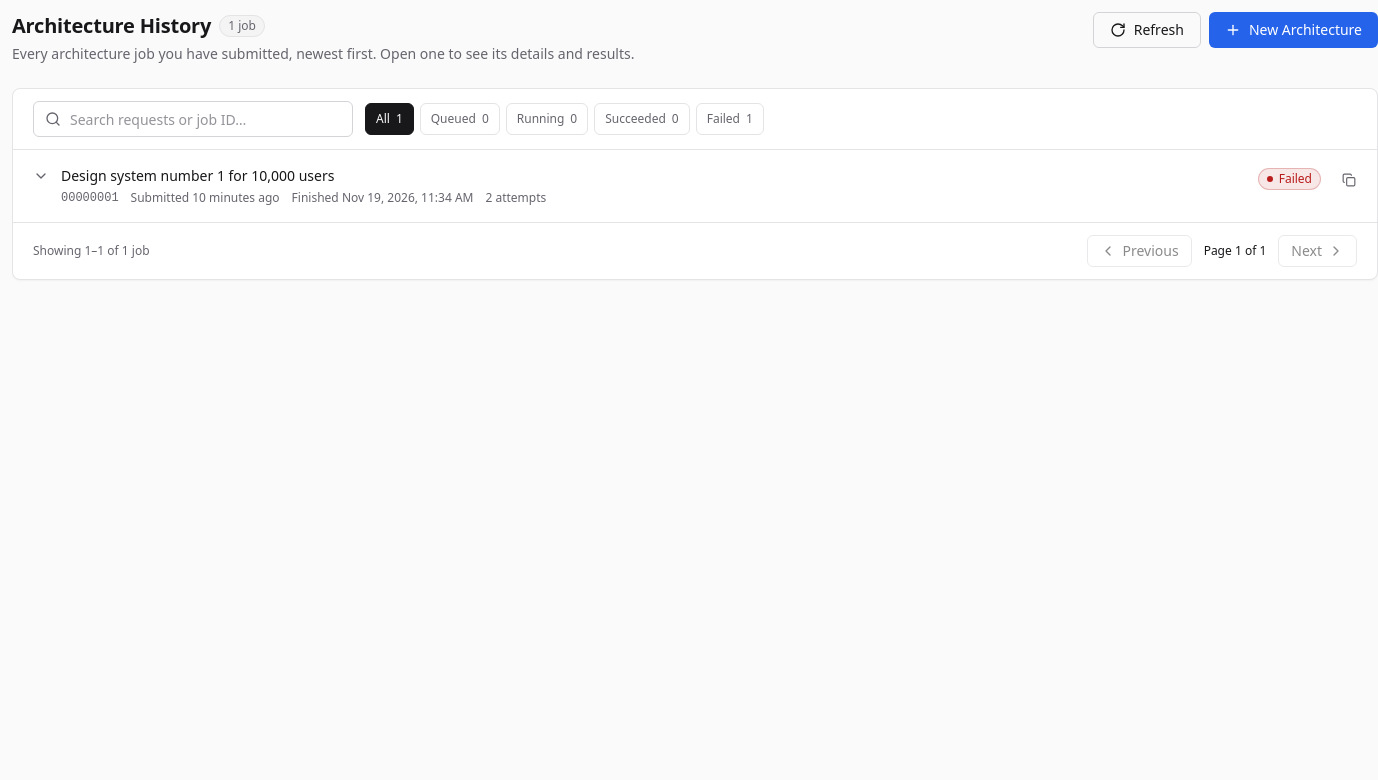
Test: Architecture History page › failed jobs show a readable failure message and no View Results
Click the button that starts with "Design system number 1 for 10,000 users": [198, 176] box x1=25 y1=158 x2=1329 y2=214
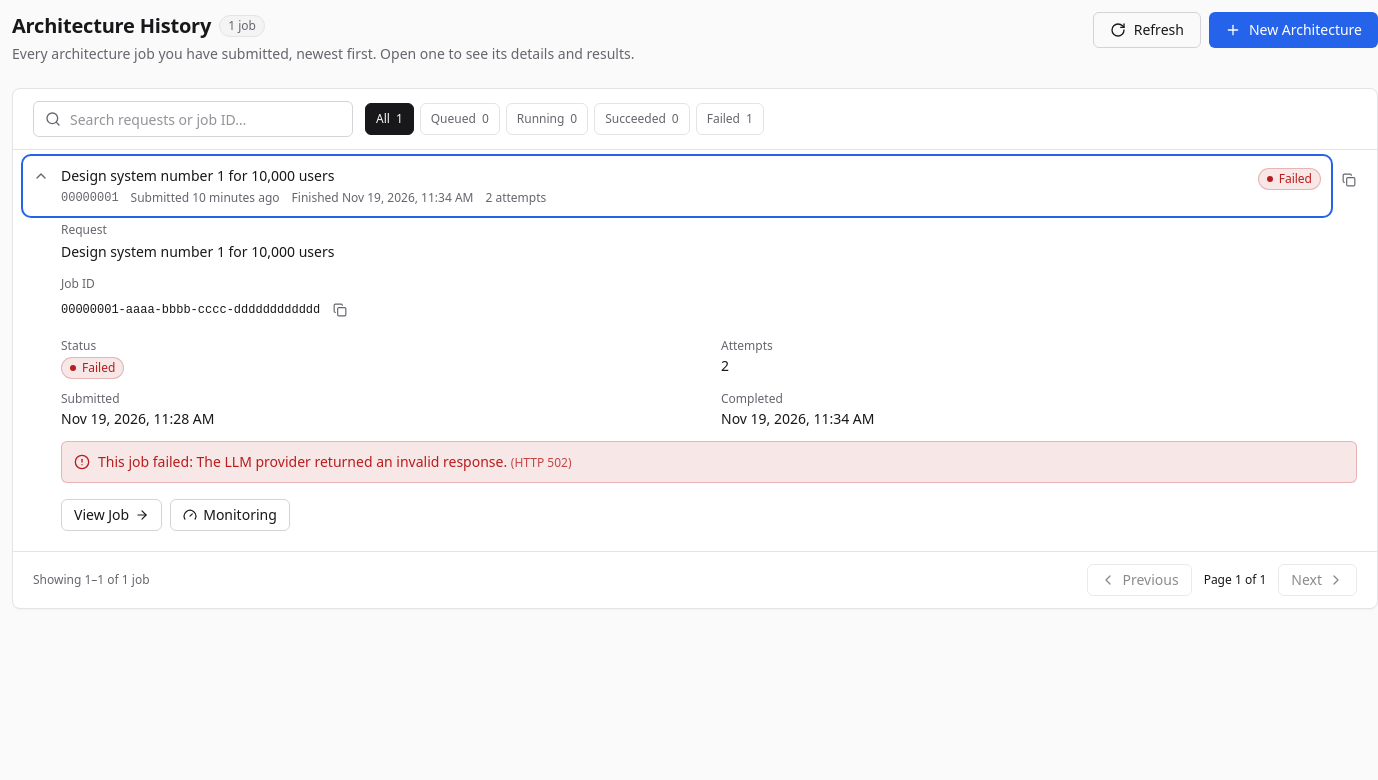
Now the element that starts with "This job failed:" reads "This job failed: The LLM provider returned an invalid response. (HTTP 502)", box x1=61 y1=441 x2=1357 y2=483
Now the link "View Job" is shown, box x1=61 y1=499 x2=162 y2=531
